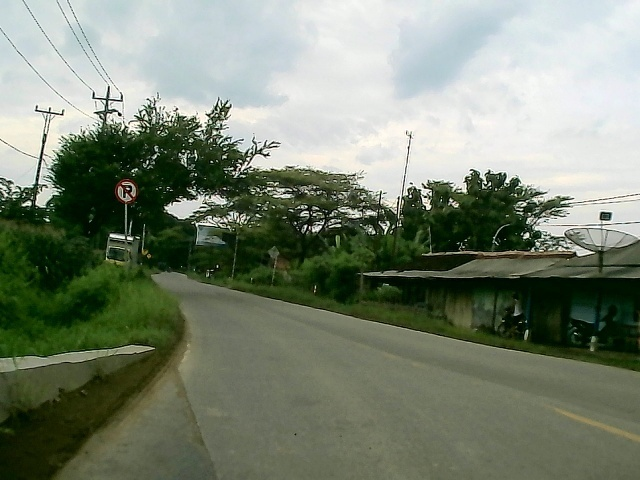Dilarang parkir: (113, 179, 141, 206)
